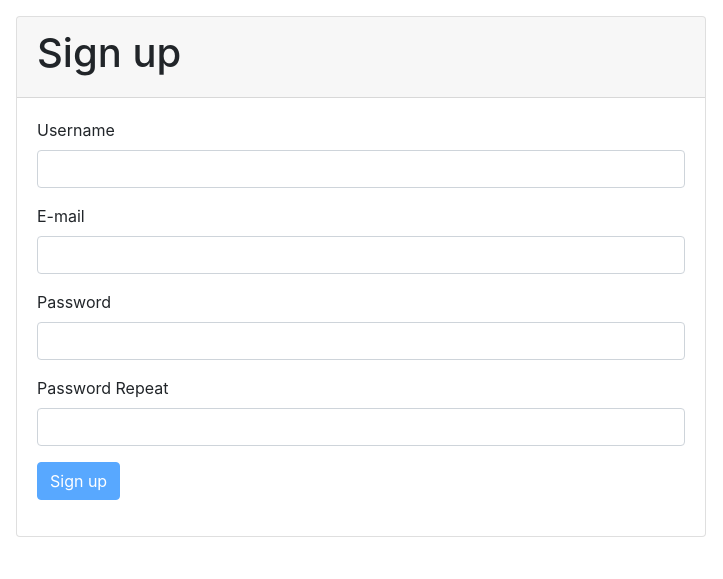
Test: Sign Up › when user sets same value for password inputs › when user submits form › when there is an ongoing api call › displays spinner
The image size is (723, 579).
Type "test_user" into the field labelled "Username".
click(361, 169); type("test_user")  # box [37, 150, 685, 188]
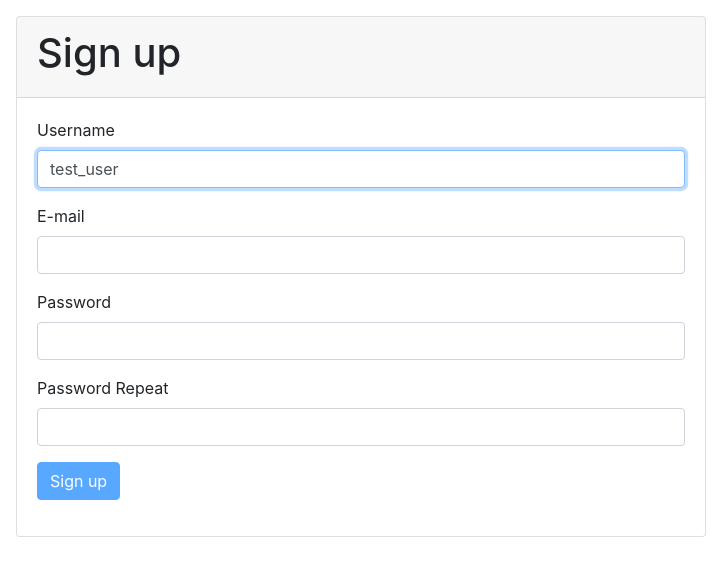
Type "text@example.com" into the field labelled "E-mail".
click(361, 255); type("text@example.com")  # box [37, 236, 685, 274]
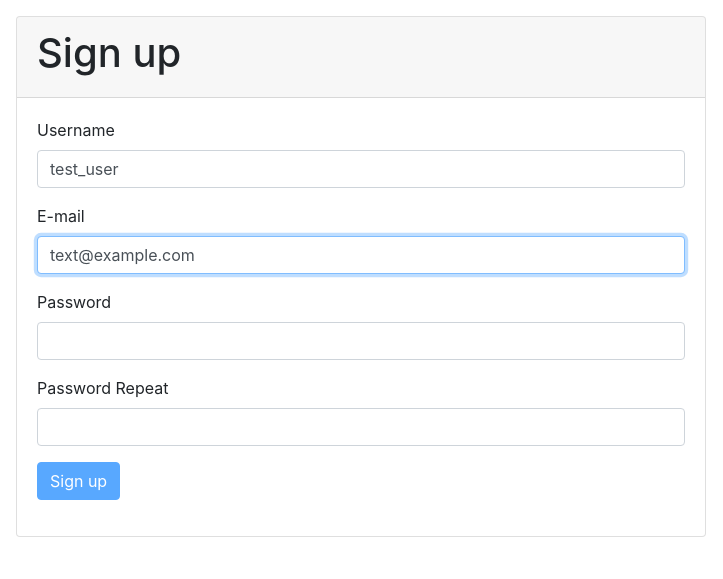
Type "asdf" into the password field labelled "Password".
click(361, 341); type("asdf")  # box [37, 322, 685, 360]
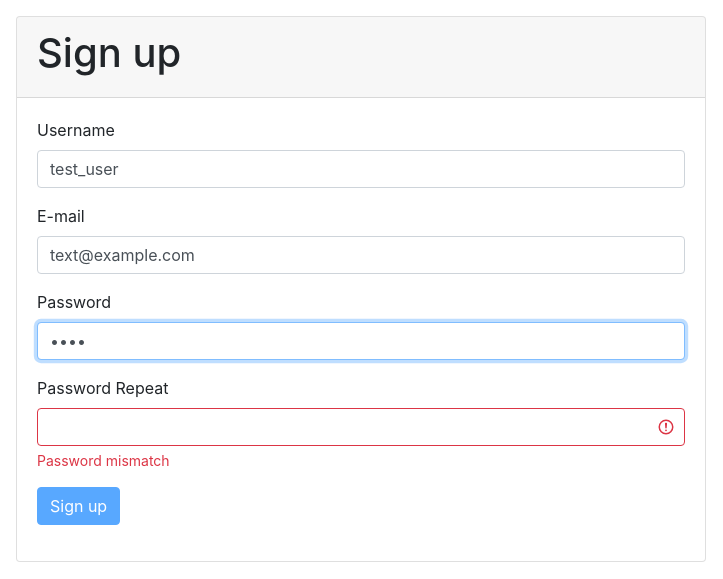
Type "asdf" into the password field labelled "Password Repeat".
click(361, 427); type("asdf")  # box [37, 408, 685, 446]
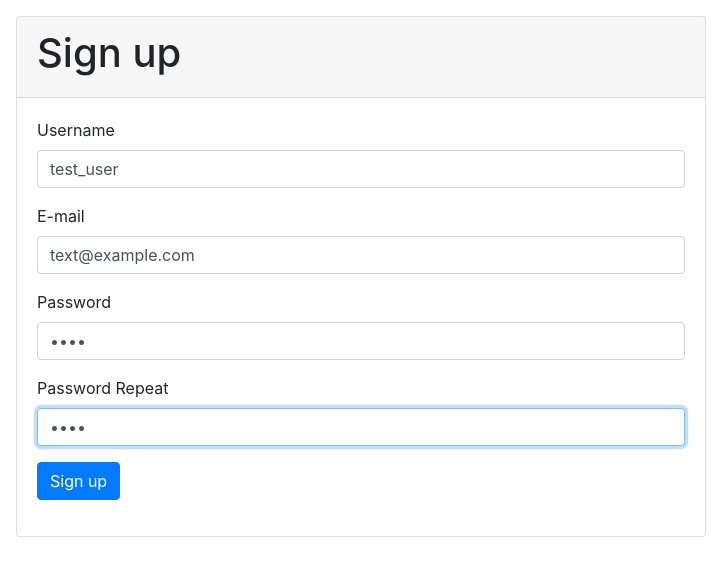
Click the button "Sign up".
click(79, 481)  # box [37, 462, 120, 500]
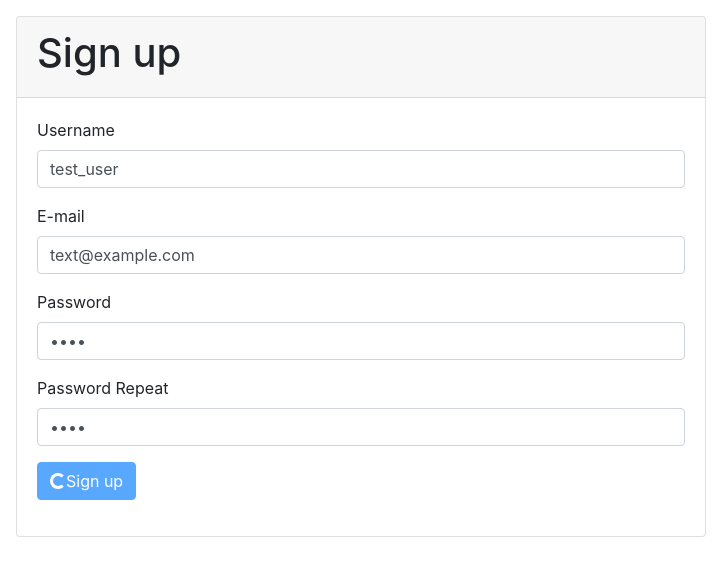
Result: the message is shown at [50, 473, 66, 489]
